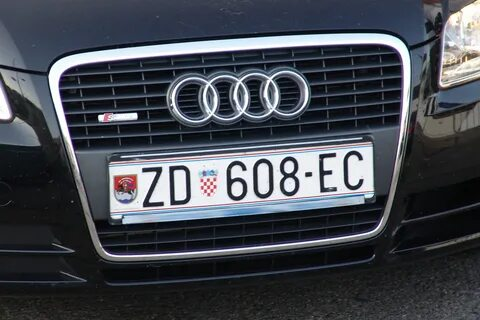number_plate: (108, 144, 376, 211)
